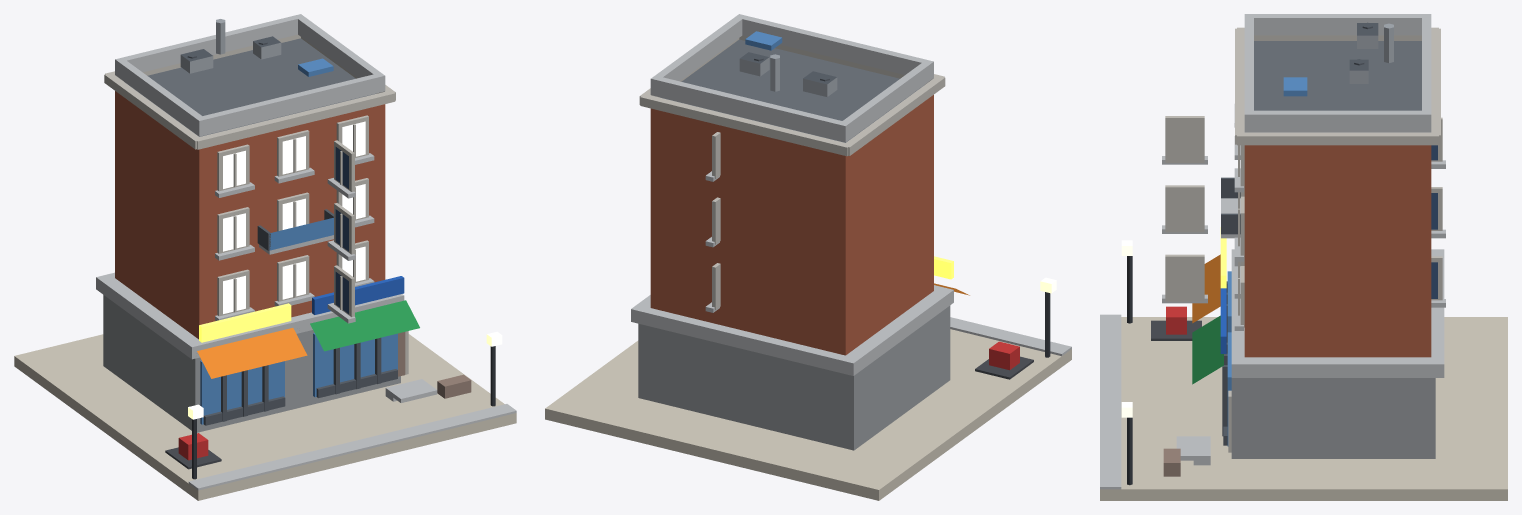
3 views of the same model, side by side, from view 1: azimuth 30°, elevation 25°; view 2: azimuth 150°, elevation 25°; view 3: azimuth 270°, elevation 25° (orthographic). The views are drawn at different scales.
Visible parts, largest first — view 1: b09_v2; view 2: b09_v2; view 3: b09_v2.
Boxes of the visible parts, x1=… form: b09_v2: x1=14, y1=14, x2=516, y2=500; b09_v2: x1=545, y1=14, x2=1071, y2=500; b09_v2: x1=1100, y1=14, x2=1507, y2=500.
Bounding box in the file's own units: 0.96 × 1 × 0.96.
